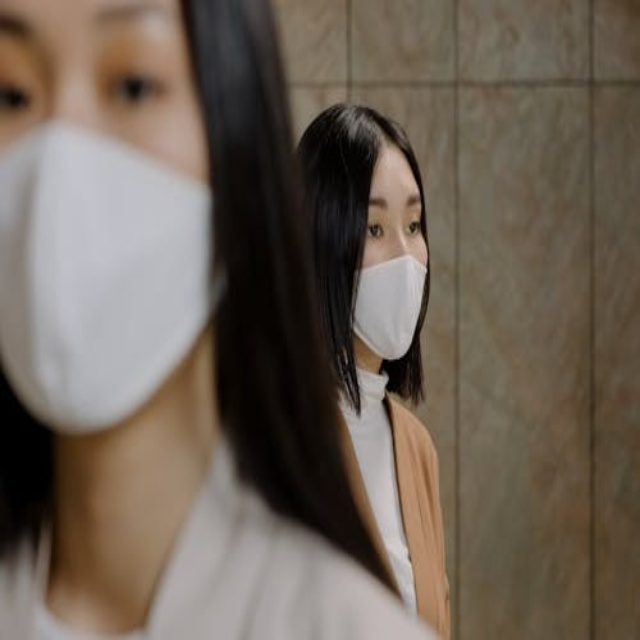Mascara: (0, 124, 227, 436), (348, 251, 427, 360)
Sin_gafas: (4, 6, 193, 123), (364, 185, 430, 246)
